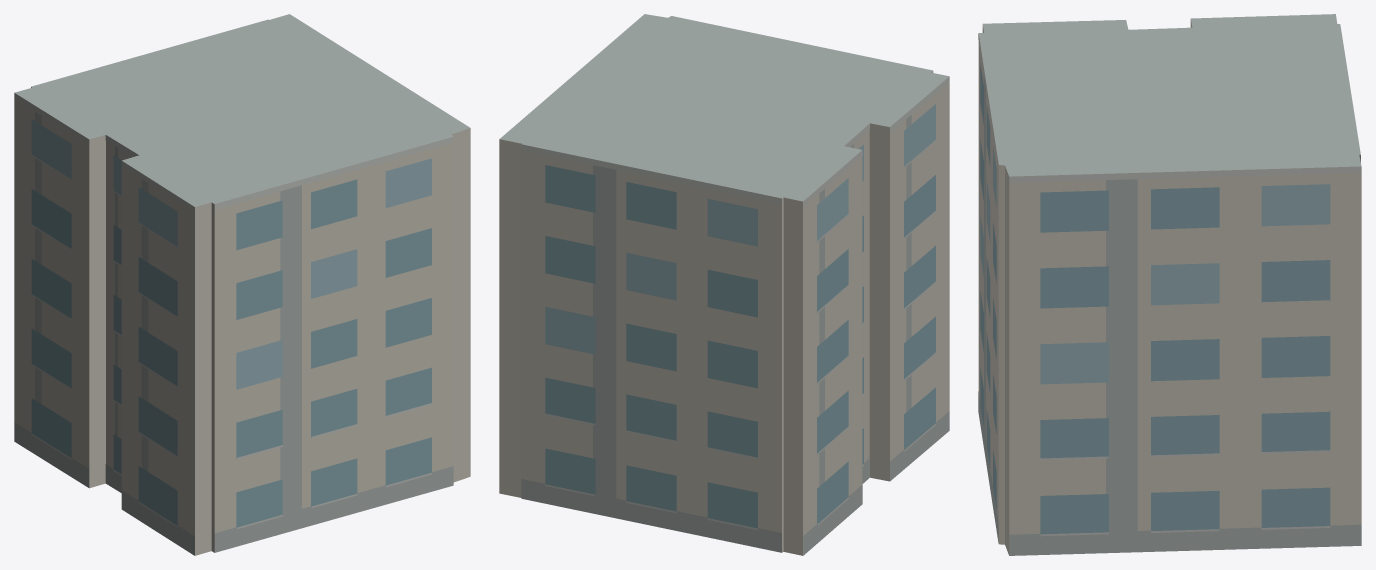
Rendered from survey-upis-32803307.glb.
3 renders of one model, left to right at view 1: azimuth 30°, elevation 25°; view 2: azimuth 150°, elevation 25°; view 3: azimuth 270°, elevation 25°, orthographic. The views are drawn at different scales.
Visible parts, largest first — view 1: survey-upis-32803307.tmp; view 2: survey-upis-32803307.tmp; view 3: survey-upis-32803307.tmp.
Part boxes in pixels (box(x1,y1,x2,y2)): survey-upis-32803307.tmp: box(14, 14, 470, 555); survey-upis-32803307.tmp: box(499, 14, 949, 555); survey-upis-32803307.tmp: box(978, 14, 1361, 555).
Size of the model in its own units: 13.42 by 14.6 by 13.36.
